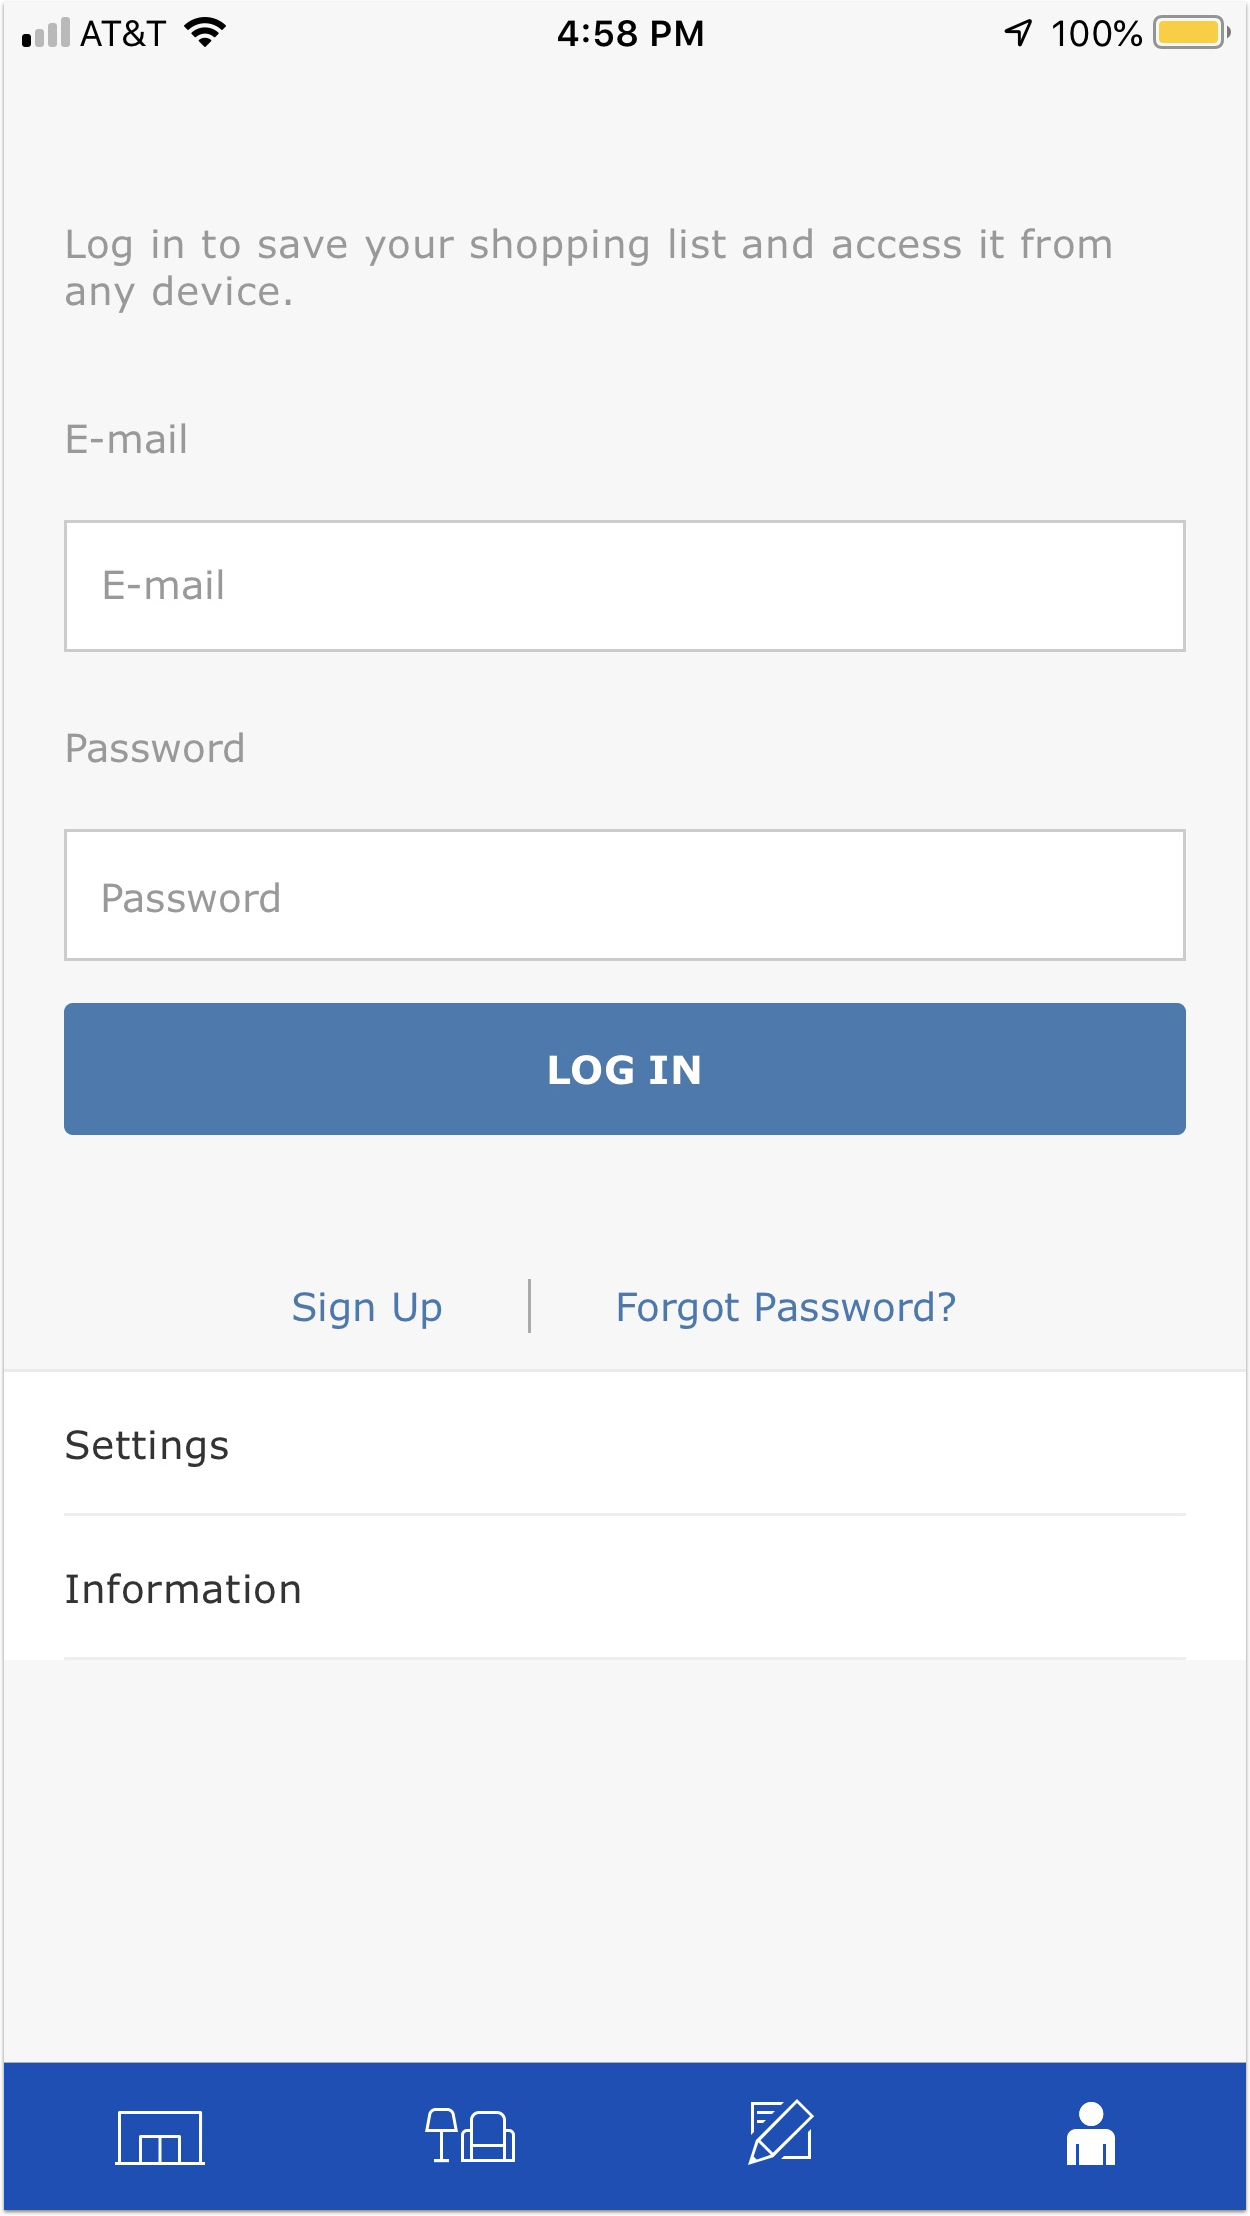EditText: (65, 521, 1188, 653), (65, 829, 1186, 962)
Icon: (116, 2109, 206, 2166), (748, 2097, 816, 2166), (1066, 2100, 1116, 2166)
Image: (425, 2106, 518, 2164)
Text: (65, 228, 1111, 314), (620, 1291, 956, 1330), (65, 1574, 301, 1606), (65, 1431, 228, 1469), (294, 1292, 443, 1330), (104, 883, 280, 915), (69, 732, 244, 764), (105, 571, 224, 601), (69, 425, 187, 455)
TextButton: (65, 1005, 1186, 1135)
UpperTaskBar: (2, 2, 1250, 49)
